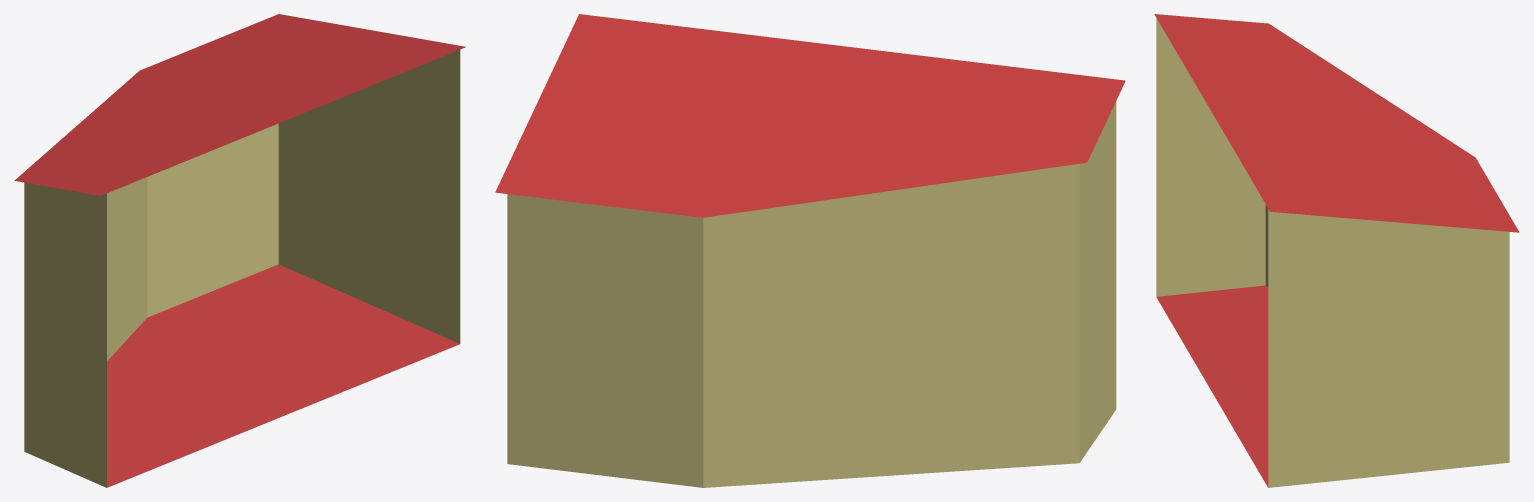
The picture shows the model from 3 angles, left to right: view 1: azimuth 30°, elevation 25°; view 2: azimuth 150°, elevation 25°; view 3: azimuth 270°, elevation 25°; orthographic projection. The views are drawn at different scales.
Bounding box in the file's own units: 14.99 × 11.03 × 9.31.
